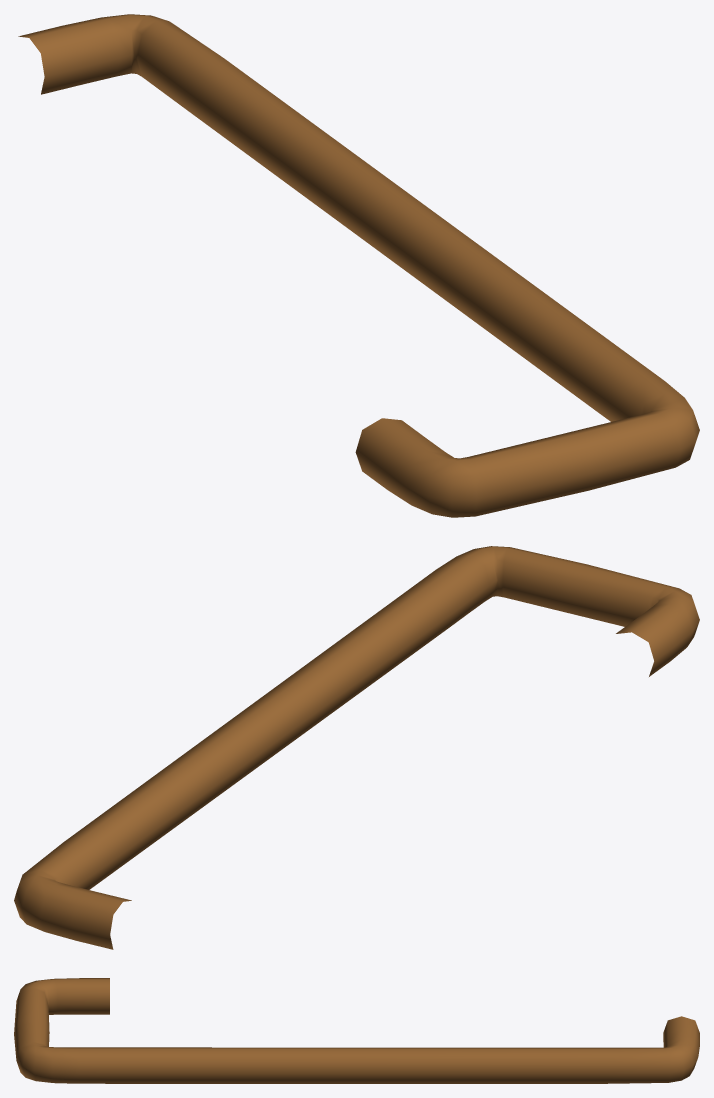
File: quaternius-cyberpunk-pipe-corner-2.glb
The picture shows the model from 3 angles, top to bottom: view 1: azimuth 30°, elevation 25°; view 2: azimuth 150°, elevation 25°; view 3: azimuth 270°, elevation 25°; orthographic projection. The views are drawn at different scales.
Parts seen in each view (by area): view 1: Pipe_Corner_2; view 2: Pipe_Corner_2; view 3: Pipe_Corner_2.
Boxes of the visible parts, <box> form: Pipe_Corner_2: <box>18,14,699,517</box>; Pipe_Corner_2: <box>14,546,699,949</box>; Pipe_Corner_2: <box>14,978,699,1083</box>.
Bounding box in the file's own units: 1.15 × 0.2123 × 3.94.
